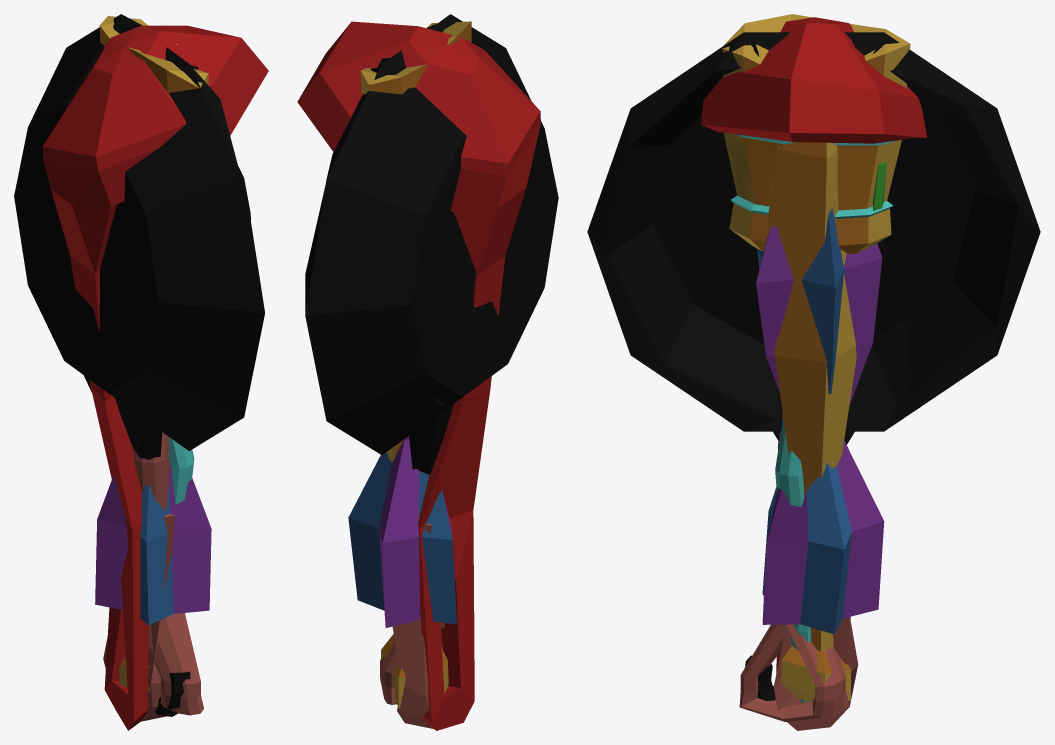
File: all_weapons_formaya.fbx
3 renders of one model, left to right at view 1: azimuth 30°, elevation 25°; view 2: azimuth 150°, elevation 25°; view 3: azimuth 270°, elevation 25°, orthographic. The views are drawn at different scales.
Visible parts, largest first — view 1: Pan, SoupLadle, Umbrella, Spade, Sweeper; view 2: Pan, SoupLadle, Umbrella, Sweeper, bat, Spade; view 3: Pan, Umbrella, bat, SoupLadle, Sweeper, Spade.
Part boxes in pixels (box(x1,y1,x2,y2)): Pan: box(14, 14, 264, 721); SoupLadle: box(42, 25, 268, 730); Umbrella: box(95, 459, 211, 716); Spade: box(133, 53, 203, 715); Sweeper: box(99, 16, 208, 504); Pan: box(305, 14, 558, 728); SoupLadle: box(297, 21, 540, 730); Umbrella: box(348, 436, 456, 627); Sweeper: box(360, 21, 471, 94); bat: box(381, 440, 448, 707); Spade: box(371, 24, 444, 704); Pan: box(587, 32, 1040, 730); Umbrella: box(745, 208, 884, 700); bat: box(767, 38, 856, 701); SoupLadle: box(701, 17, 926, 673); Sweeper: box(722, 14, 910, 702); Spade: box(739, 38, 886, 721).
Bounding box in the file's own units: 40.07 × 129 × 75.
